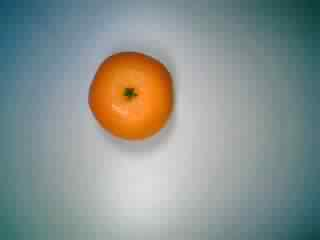orange: (77, 46, 174, 140)
